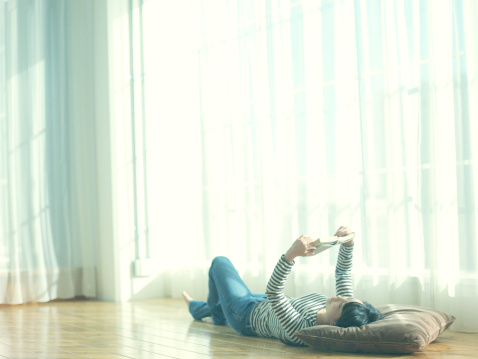deitado: (195, 223, 411, 335)
